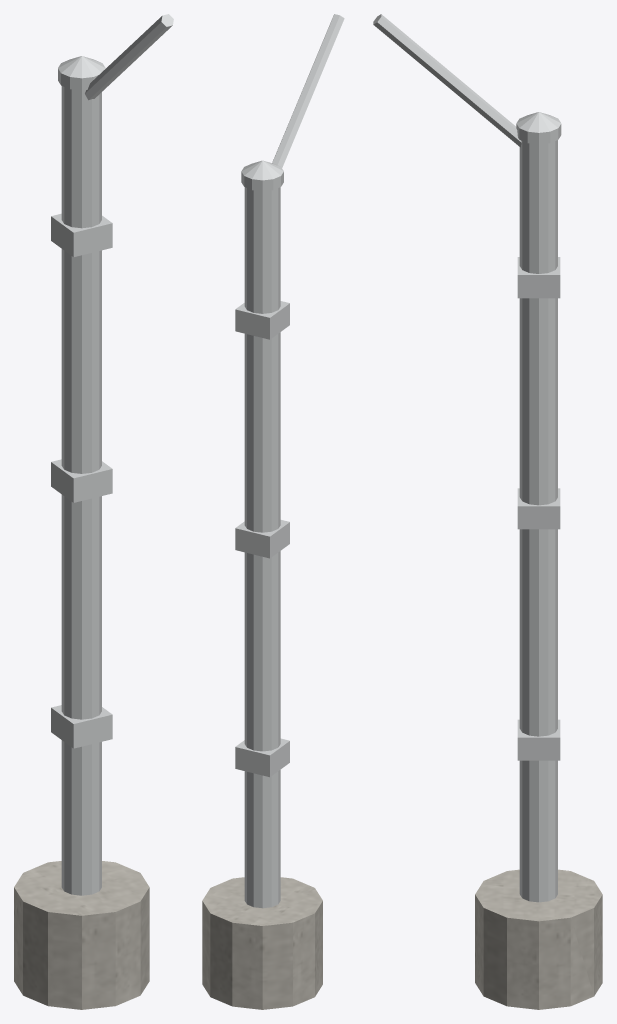
Rendered from fence_post_t.glb.
The picture shows the model from 3 angles, left to right: view 1: azimuth 30°, elevation 25°; view 2: azimuth 150°, elevation 25°; view 3: azimuth 270°, elevation 25°; orthographic projection. The views are drawn at different scales.
Parts seen in each view (by area): view 1: fence_post_t_galv, fence_post_t_concrete; view 2: fence_post_t_galv, fence_post_t_concrete; view 3: fence_post_t_galv, fence_post_t_concrete.
Part boxes in pixels (x1=…): fence_post_t_galv: x1=51, y1=14, x2=173, y2=895; fence_post_t_concrete: x1=14, y1=861, x2=149, y2=1009; fence_post_t_galv: x1=235, y1=14, x2=344, y2=908; fence_post_t_concrete: x1=202, y1=877, x2=322, y2=1009; fence_post_t_galv: x1=373, y1=14, x2=561, y2=902; fence_post_t_concrete: x1=475, y1=869, x2=602, y2=1009.
Size of the model in its own units: 0.3 by 2.51 by 0.5394.
Materials: 2 (1 with a texture image).
